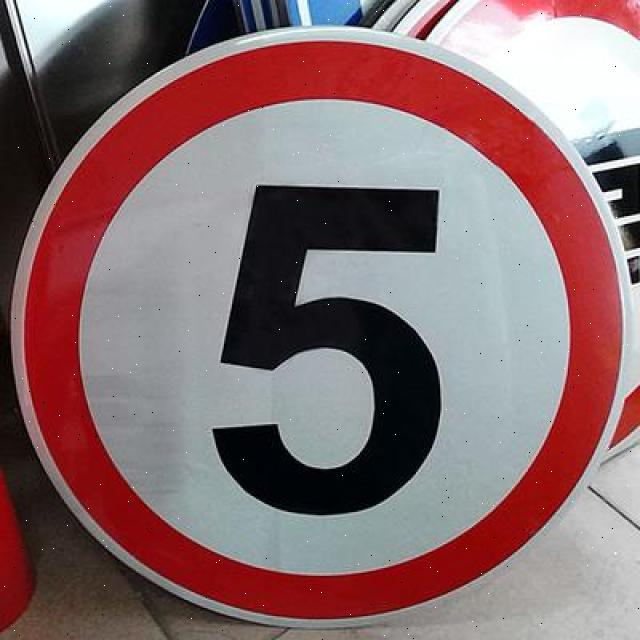speed limit 10: (9, 26, 632, 630)
